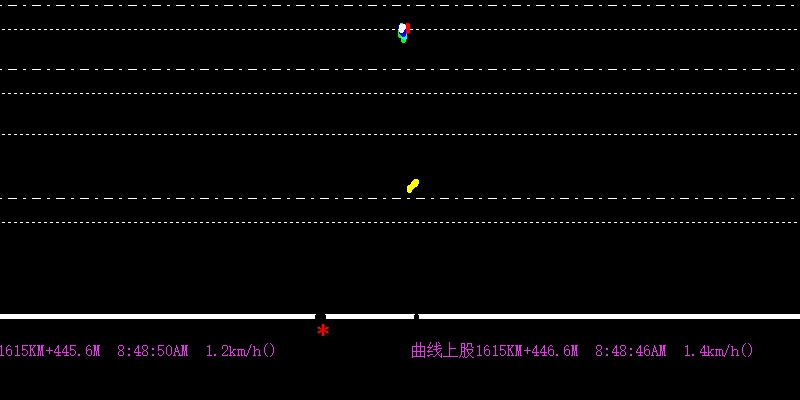face_s: (398, 16, 409, 46)
star: (313, 323, 332, 337)
